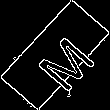M_NW: (20, 21, 90, 89)
